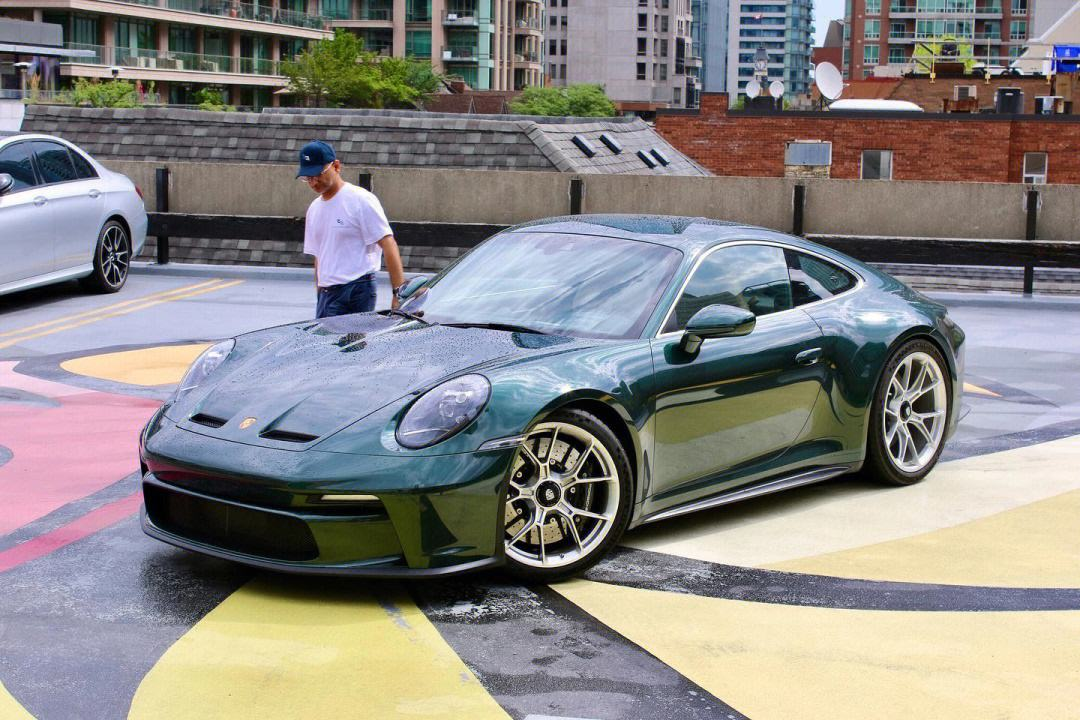other: (139, 225, 972, 591)
